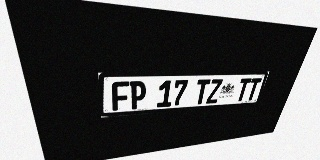1: (157, 80, 174, 108)
7: (171, 80, 188, 106)
F: (112, 81, 129, 111)
P: (130, 81, 146, 110)
T: (193, 79, 211, 105), (235, 78, 252, 101), (245, 78, 262, 101)
Z: (206, 79, 223, 104)
